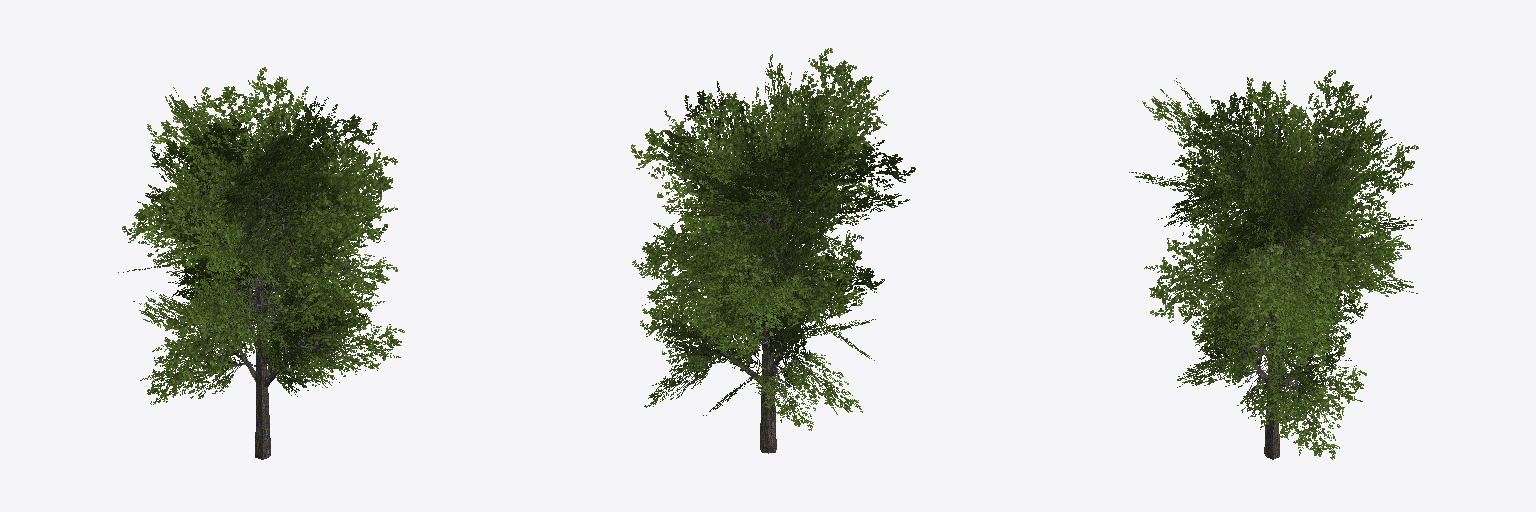
3 views of the same model, side by side, from view 1: azimuth 30°, elevation 25°; view 2: azimuth 150°, elevation 25°; view 3: azimuth 270°, elevation 25° (orthographic).
Parts seen in each view (by area): view 1: Default; view 2: Default; view 3: Default.
Boxes of the visible parts, box(x1,y1,x2,y2) form: Default: box(118, 67, 404, 459); Default: box(631, 48, 915, 453); Default: box(1129, 70, 1421, 459).
Size of the model in its own units: 7.81 by 10.86 by 8.24.
2 materials, 2 textured.